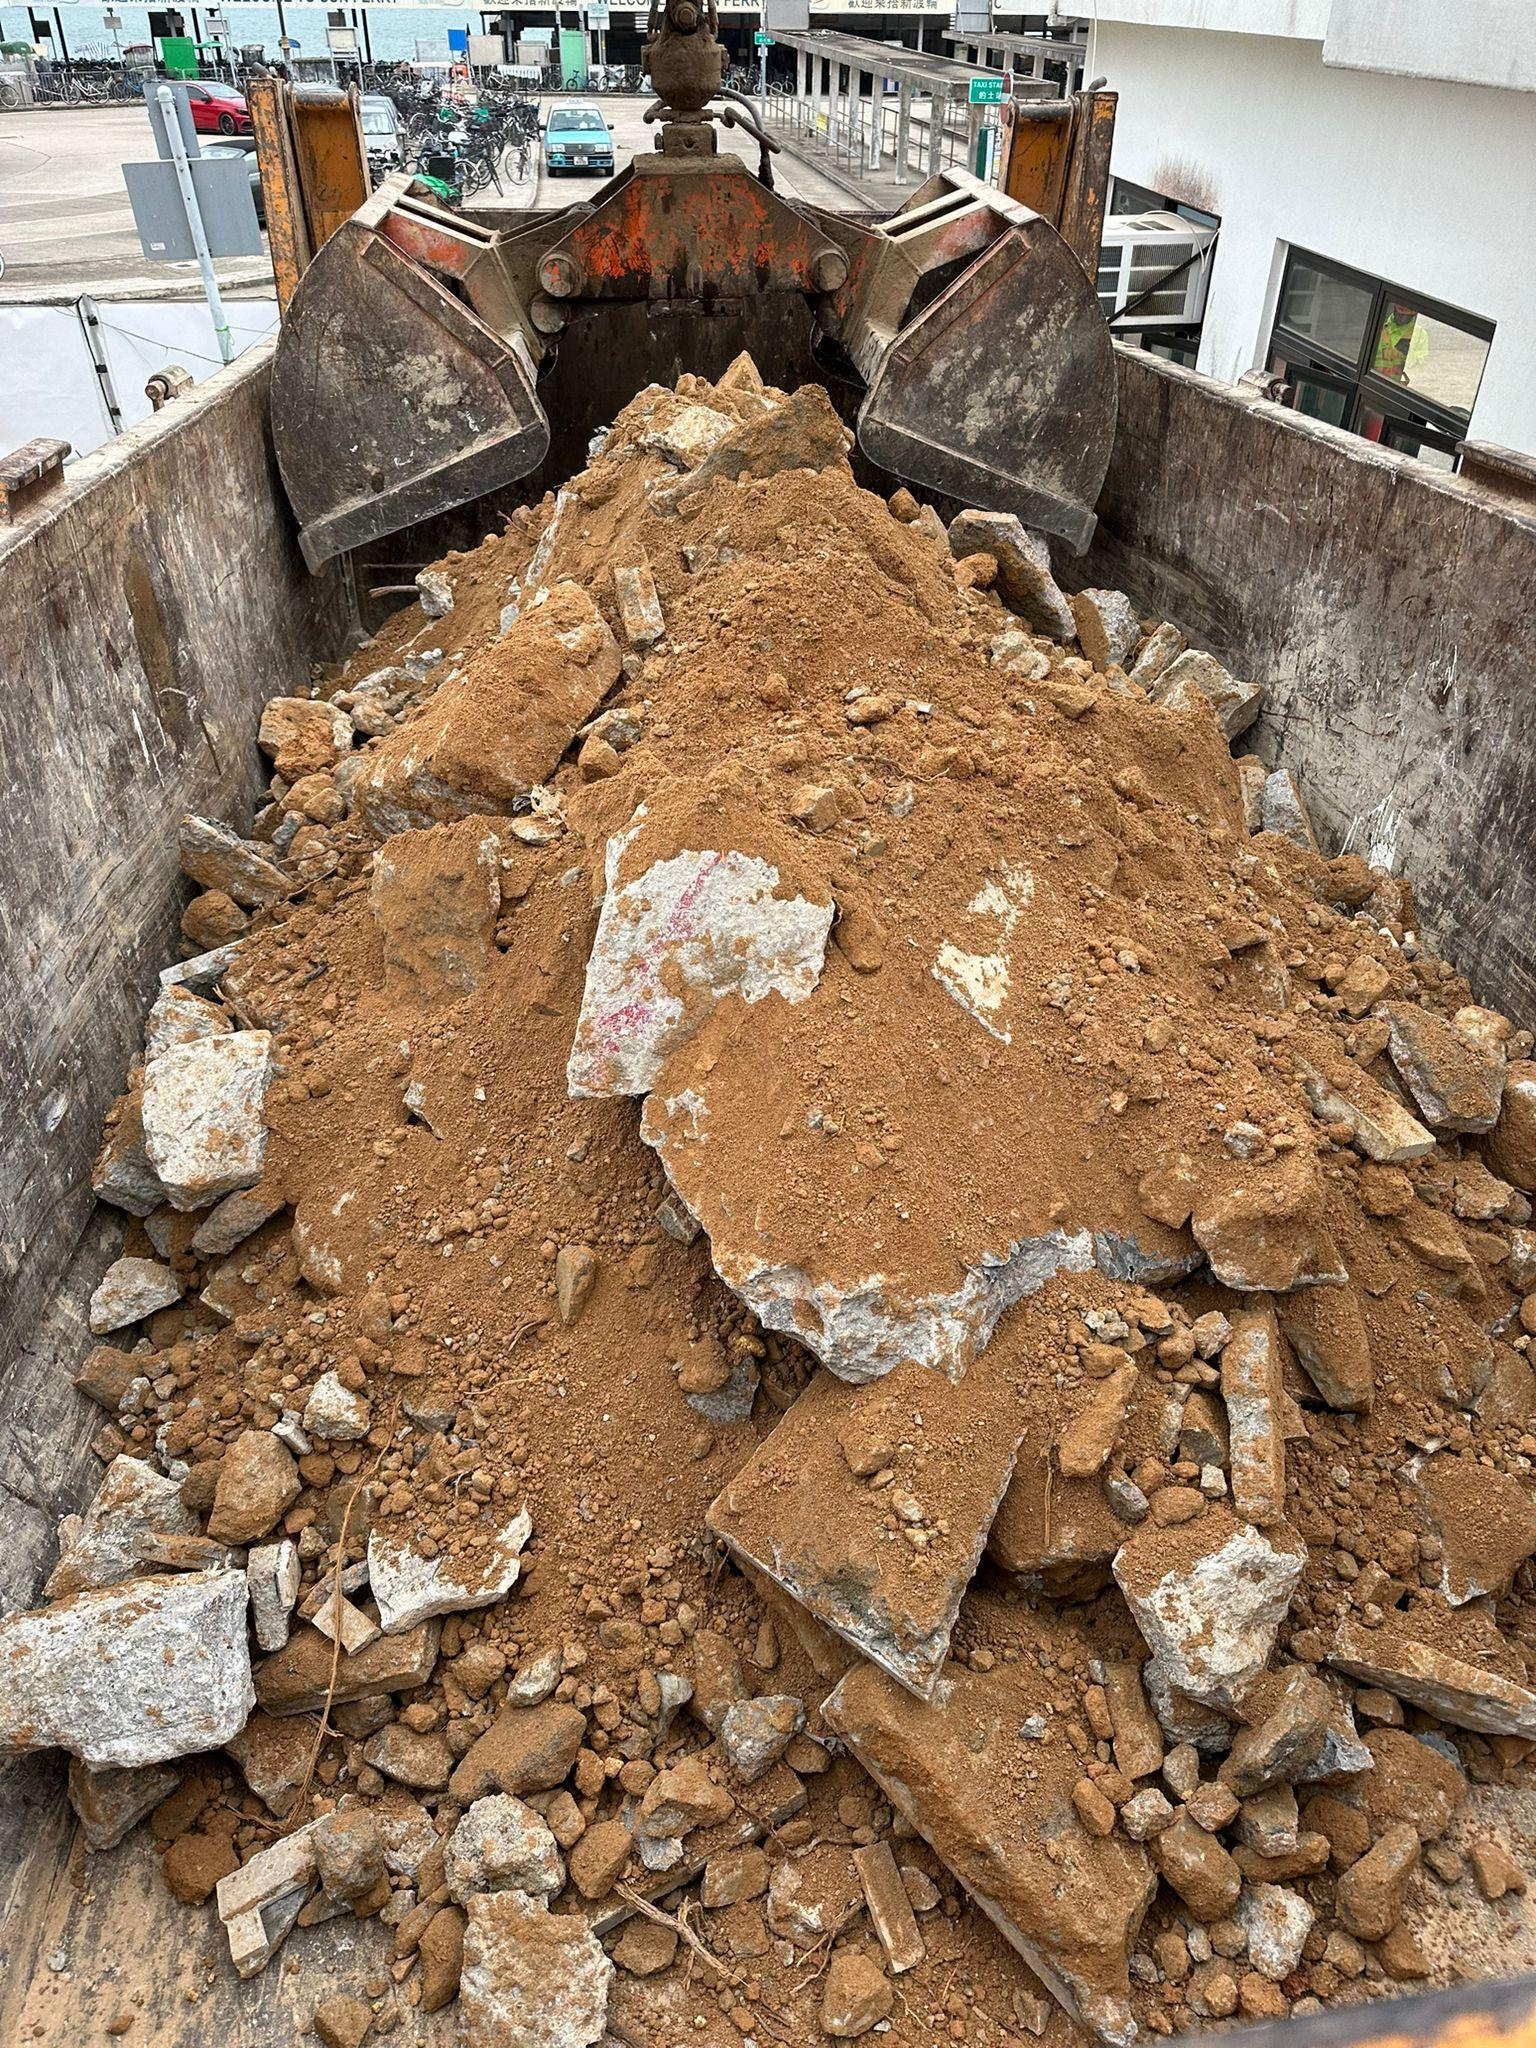dry: (60, 419, 1526, 2021)
